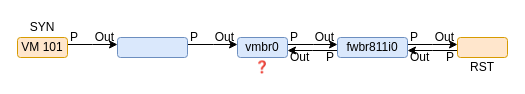
Some shapes in this 525 by 94 pixel diagram are drawn without their labels. The shapes that lost their labels are listed below. From the top down, each one's box as (x1, y1, x2, y2) in pixels, then its label:
(116, 36, 188, 58): fwbr101i1
(456, 36, 508, 58): VM 811
